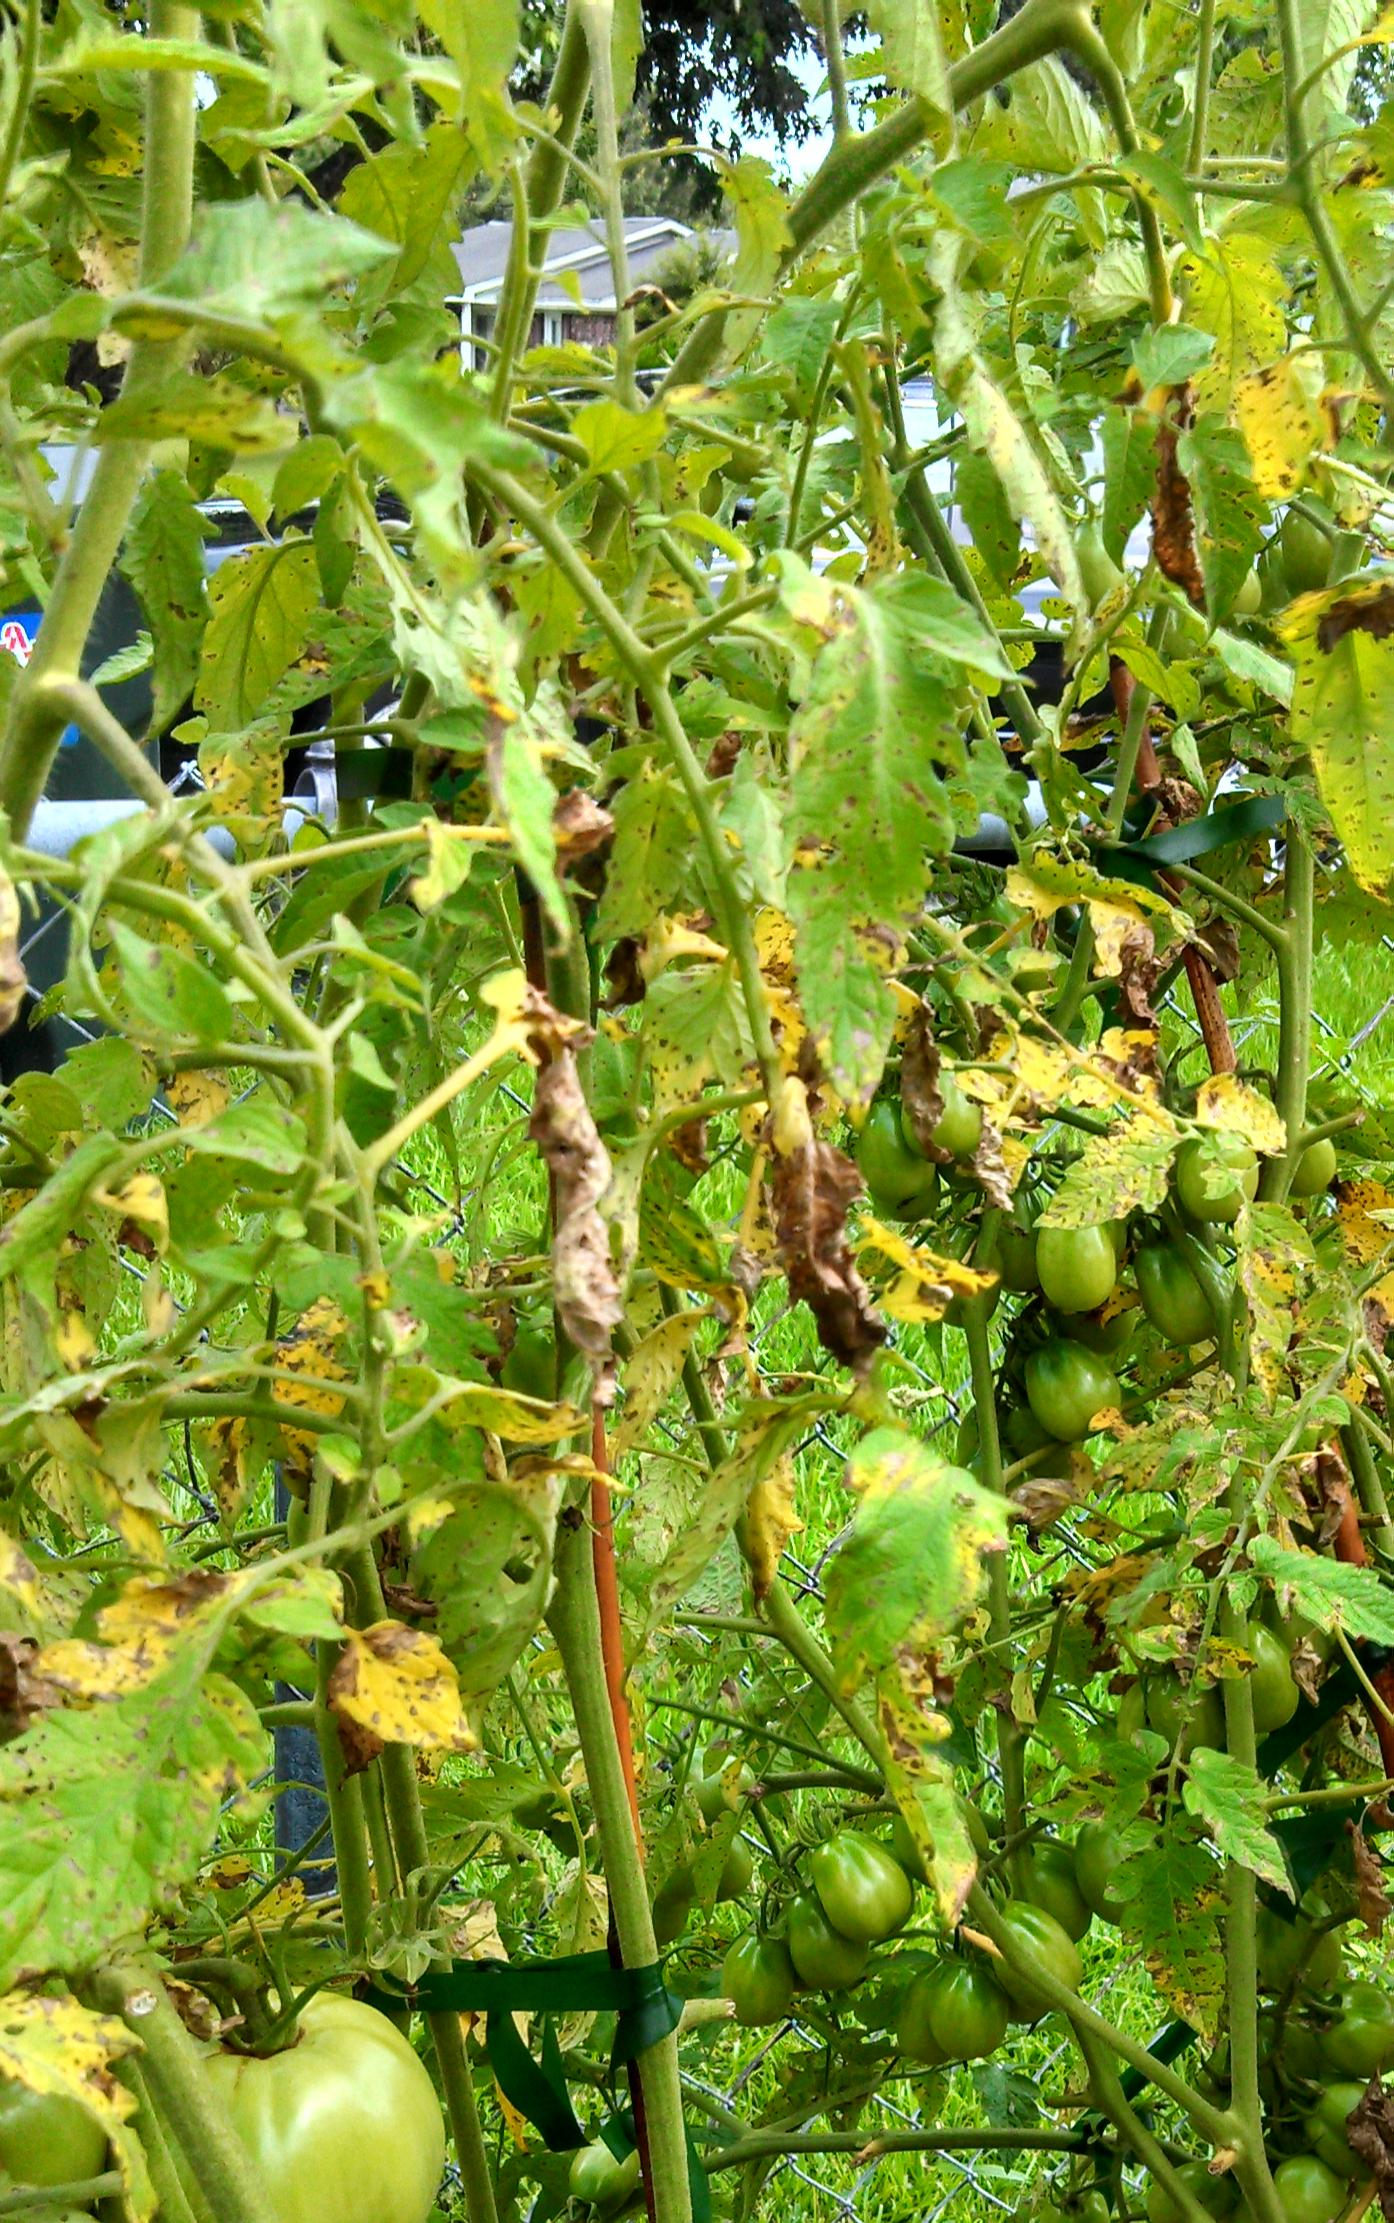Tomato Septoria leaf spot: (0, 1634, 276, 2041), (768, 622, 948, 1156)
